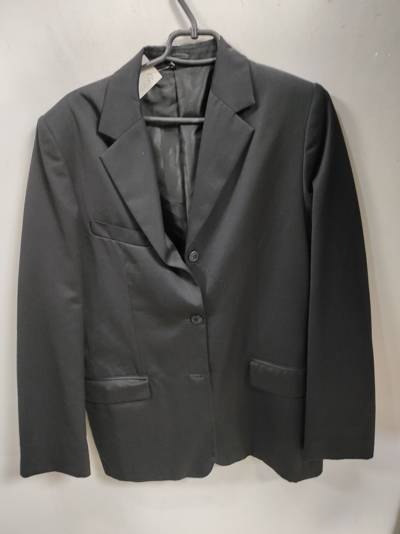Blazer: (8, 49, 354, 490)
